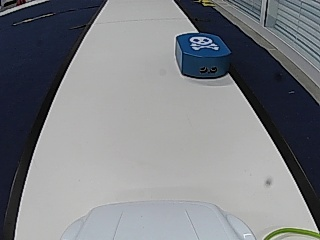danger: (189, 35, 218, 50)
